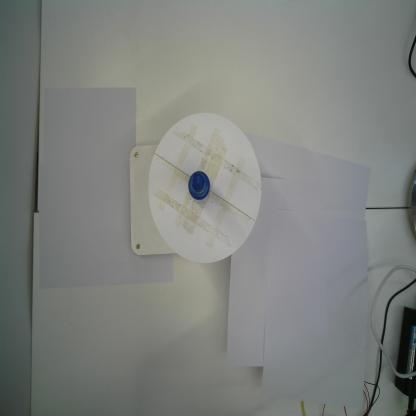Personal Hygiene: (187, 169, 212, 202)
